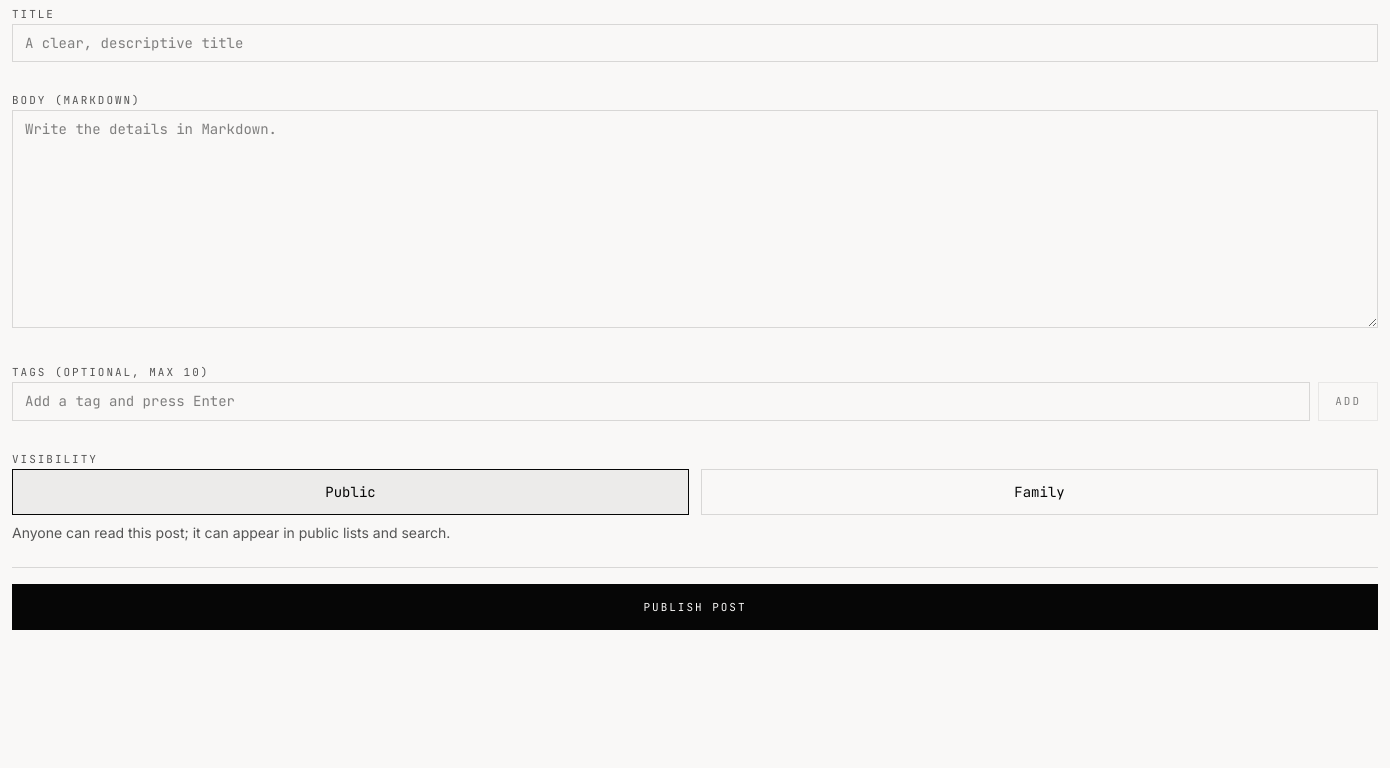
Test: post_create › is not sent when the API refused the post
Step 1. Type "Deadlock in the pool" into the field with placeholder "A clear, descriptive title" → (695, 43), box x1=12 y1=24 x2=1378 y2=62
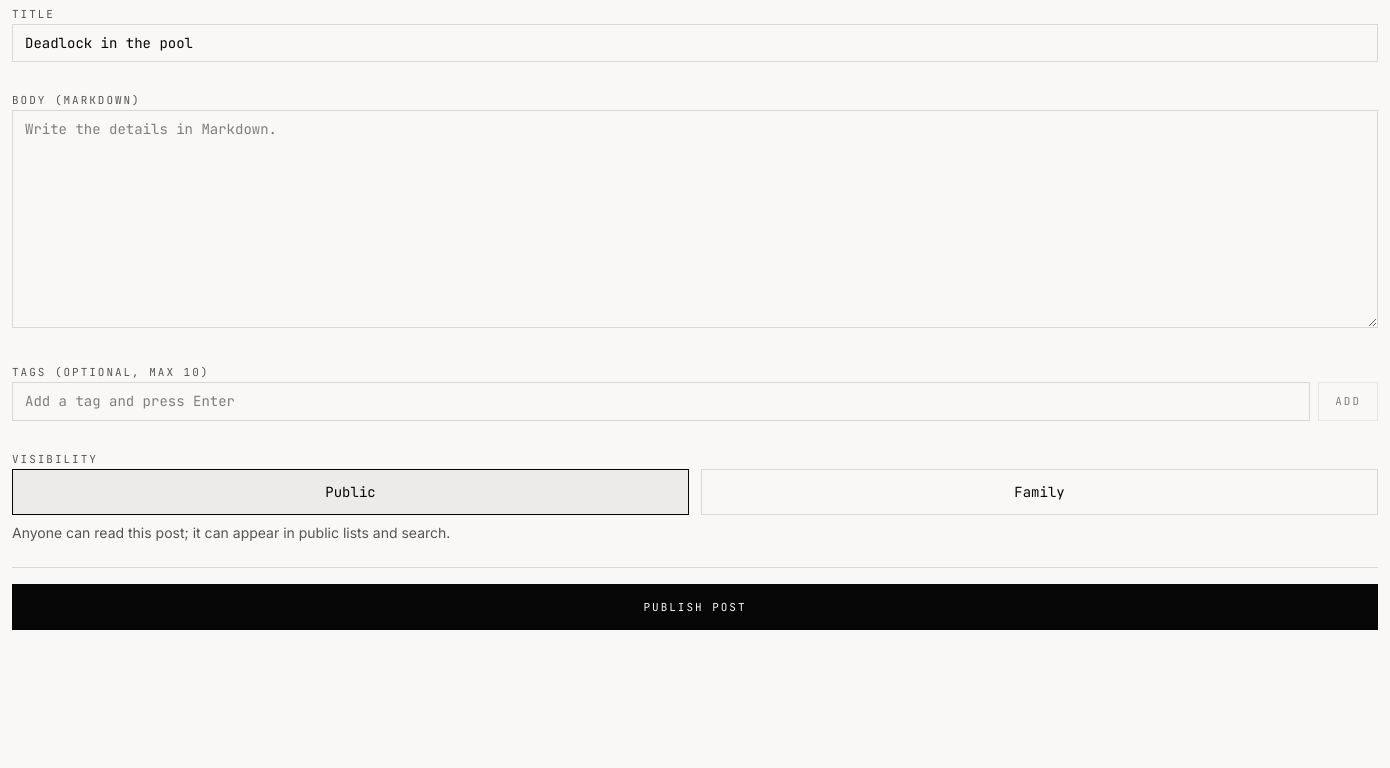
Step 2. Type "It hangs under load." into the text box with placeholder "Write the details in Markdown." → (695, 219), box x1=12 y1=110 x2=1378 y2=328
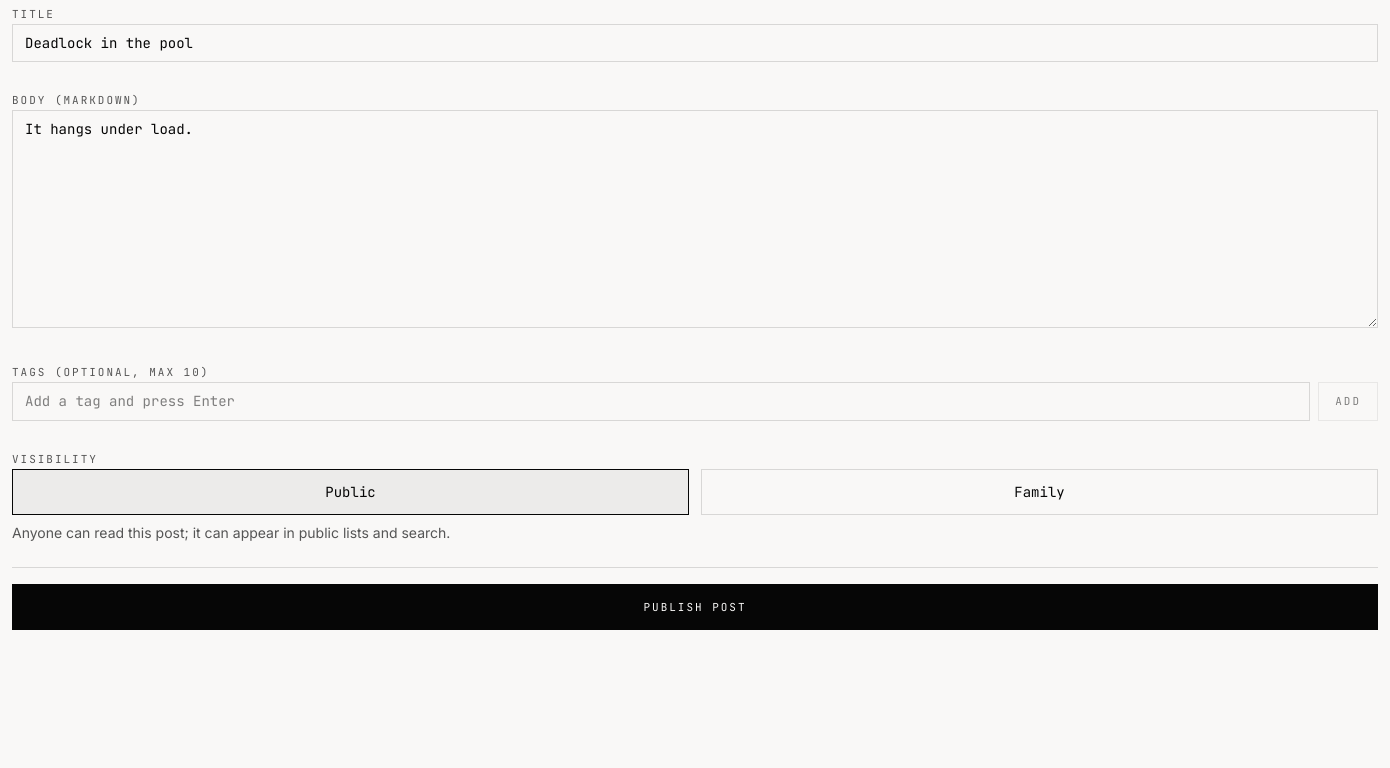
Step 3. Click the button "PUBLISH POST" → (695, 607), box x1=12 y1=584 x2=1378 y2=630
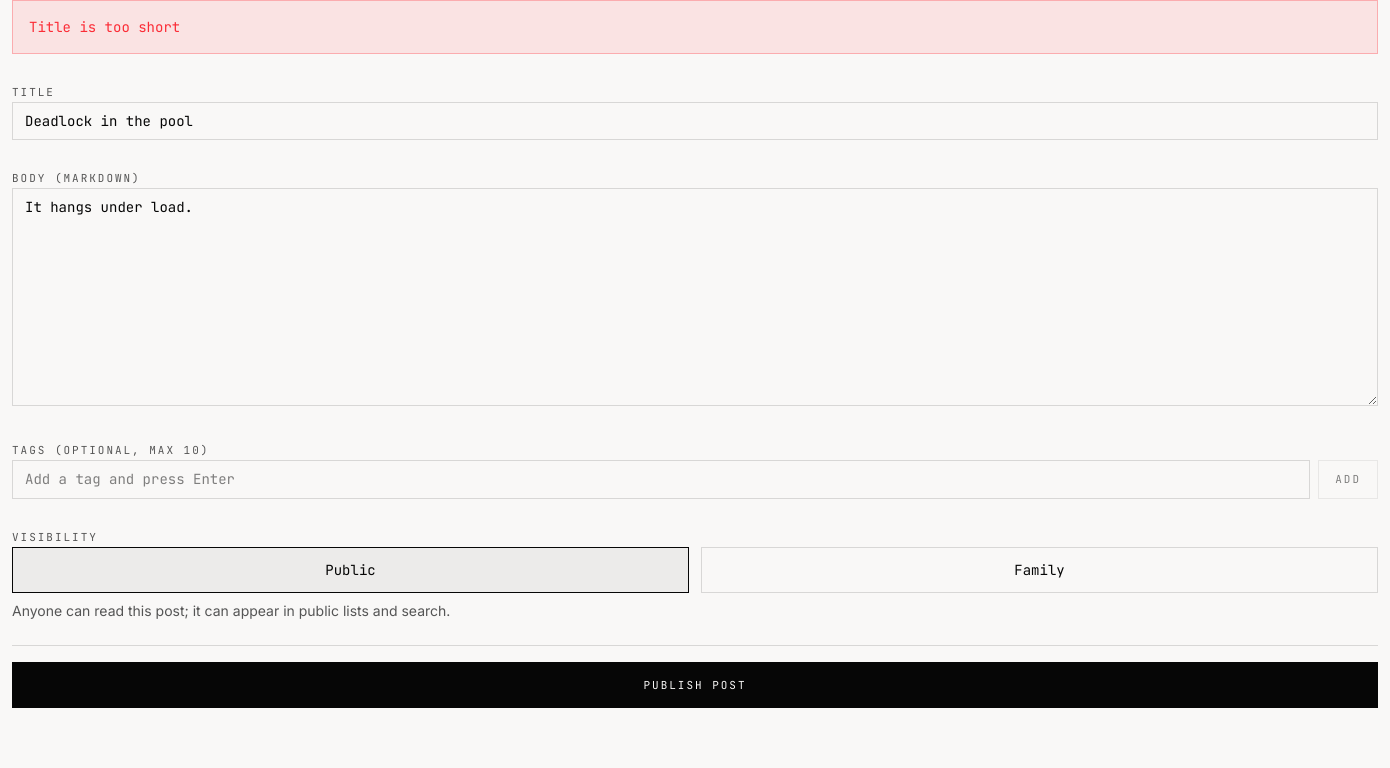
Expected: the text "Title is too short" is shown, x1=12 y1=0 x2=1378 y2=54
